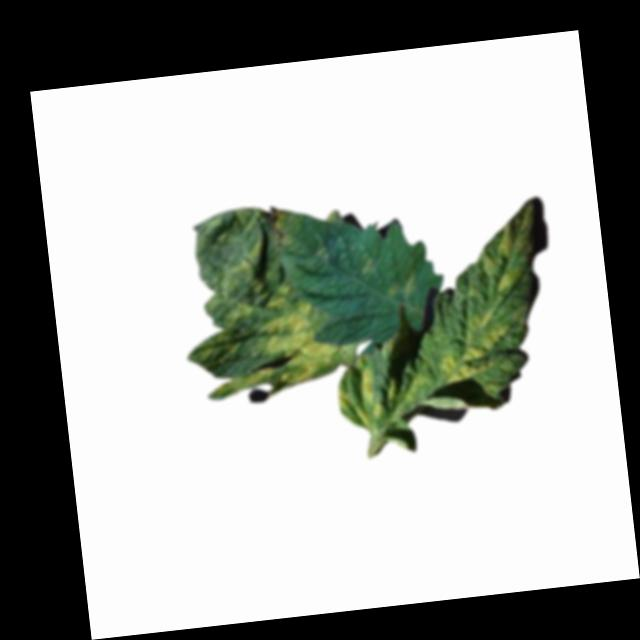Leaf_Mold: (255, 277, 359, 389), (437, 325, 515, 387), (334, 362, 384, 430), (479, 226, 520, 295), (386, 268, 420, 301)
